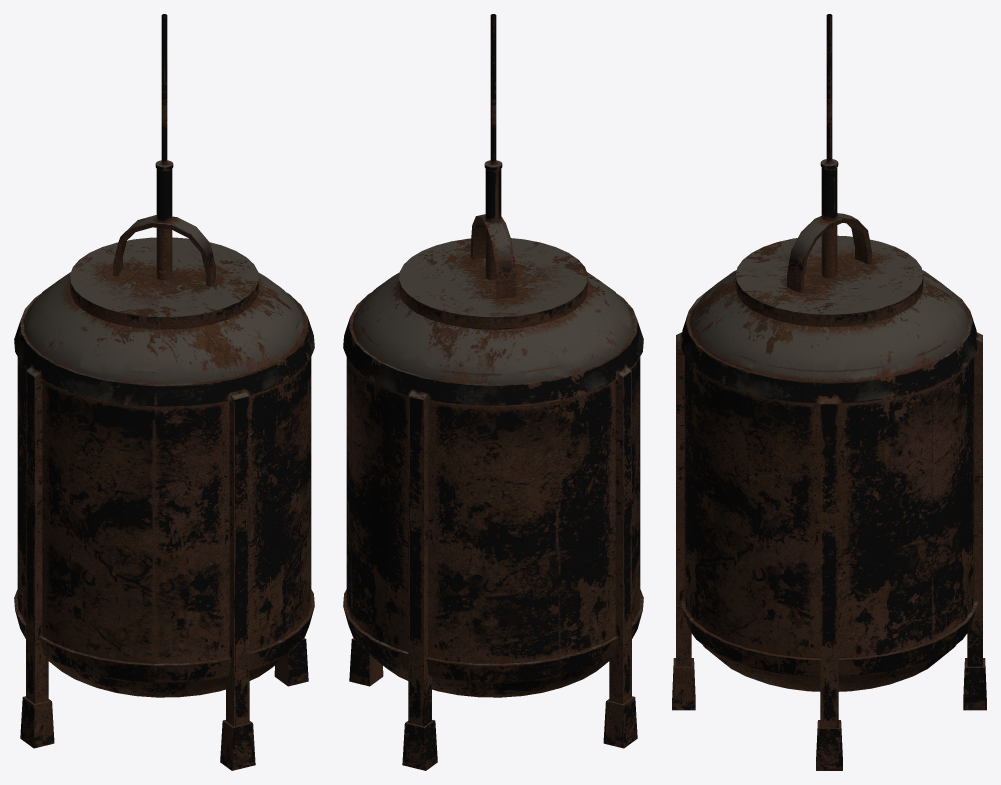
Rendered from old_industrial_boiler.glb.
3 views of the same model, side by side, from view 1: azimuth 30°, elevation 25°; view 2: azimuth 150°, elevation 25°; view 3: azimuth 270°, elevation 25° (orthographic).
Parts seen in each view (by area): view 1: Boiler; view 2: Boiler; view 3: Boiler.
Part boxes in pixels (<box>): Boiler: <box>14,14,314,770</box>; Boiler: <box>343,14,643,770</box>; Boiler: <box>672,14,986,770</box>.
Size of the model in its own units: 1.56 by 3.77 by 1.56.
1 material, 1 textured.
